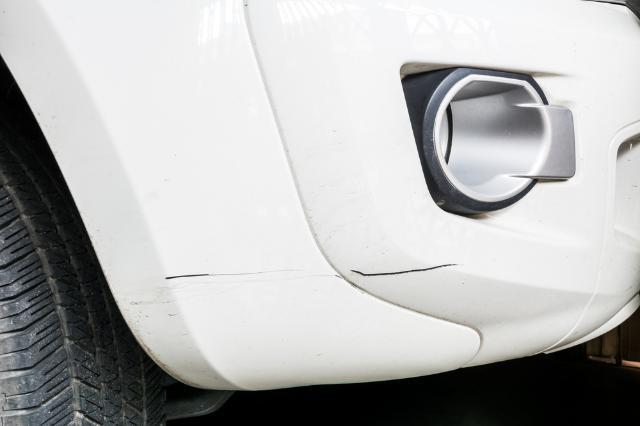scratch: (154, 268, 314, 285), (350, 260, 463, 283)
